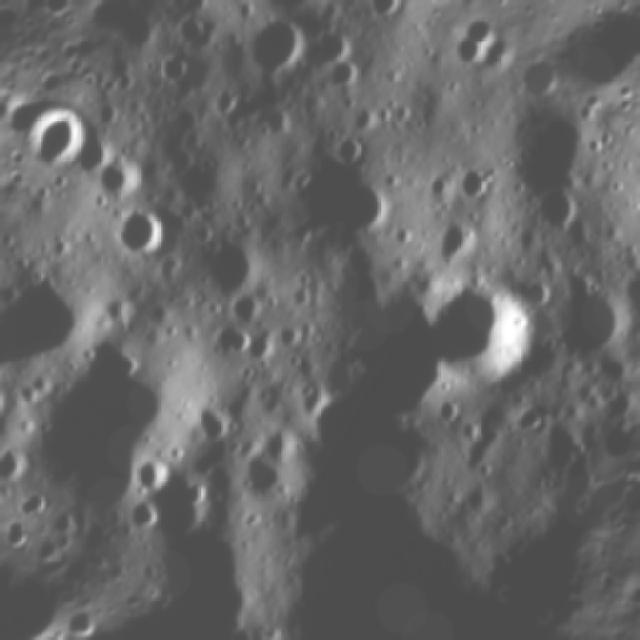crater: (410, 253, 570, 413), (0, 235, 125, 399), (532, 262, 640, 380), (219, 416, 321, 522), (97, 187, 189, 279), (225, 0, 317, 89), (320, 160, 408, 251), (38, 105, 120, 198), (184, 222, 270, 309), (232, 0, 352, 38), (199, 308, 264, 374), (90, 150, 153, 216), (527, 178, 590, 242), (424, 212, 487, 274), (182, 394, 242, 454), (112, 487, 170, 545), (123, 445, 180, 503), (165, 0, 220, 55), (317, 45, 371, 101), (147, 41, 199, 96), (440, 32, 492, 83), (0, 434, 40, 494), (454, 166, 504, 214), (201, 76, 248, 127), (326, 126, 371, 171), (418, 166, 460, 211), (349, 0, 408, 32), (0, 365, 20, 443)
